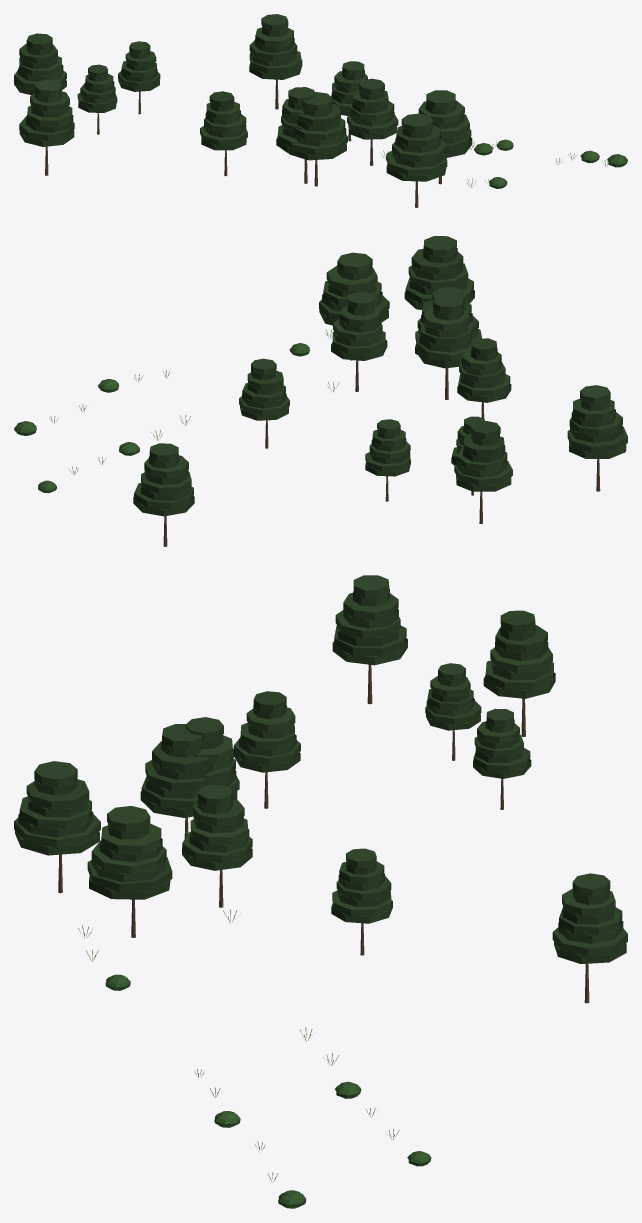
File: plants.glb
The picture shows the model from 3 angles, top to bottom: view 1: azimuth 30°, elevation 25°; view 2: azimuth 150°, elevation 25°; view 3: azimuth 270°, elevation 25°; orthographic projection. The views are drawn at different scales.
Parts seen in each view (by area): view 1: Plants_thatch, Plants_wood; view 2: Plants_thatch, Plants_wood; view 3: Plants_thatch, Plants_wood.
Part boxes in pixels (x1,y1,x2,y2): Plants_thatch: (14, 14, 627, 188); Plants_wood: (45, 79, 441, 207); Plants_thatch: (14, 236, 627, 516); Plants_wood: (163, 360, 600, 546); Plants_thatch: (14, 575, 627, 1208); Plants_wood: (58, 664, 589, 1003).
Size of the model in its own units: 68.58 by 21.91 by 46.26.
